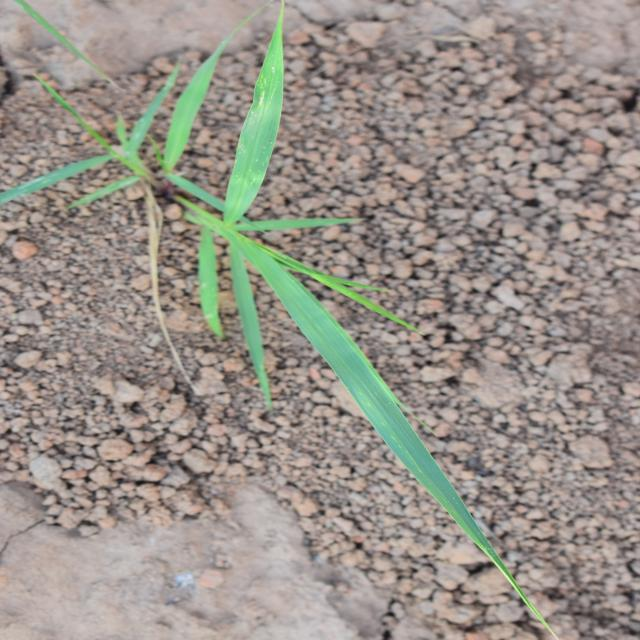green_foxtail: (161, 90, 560, 452)
